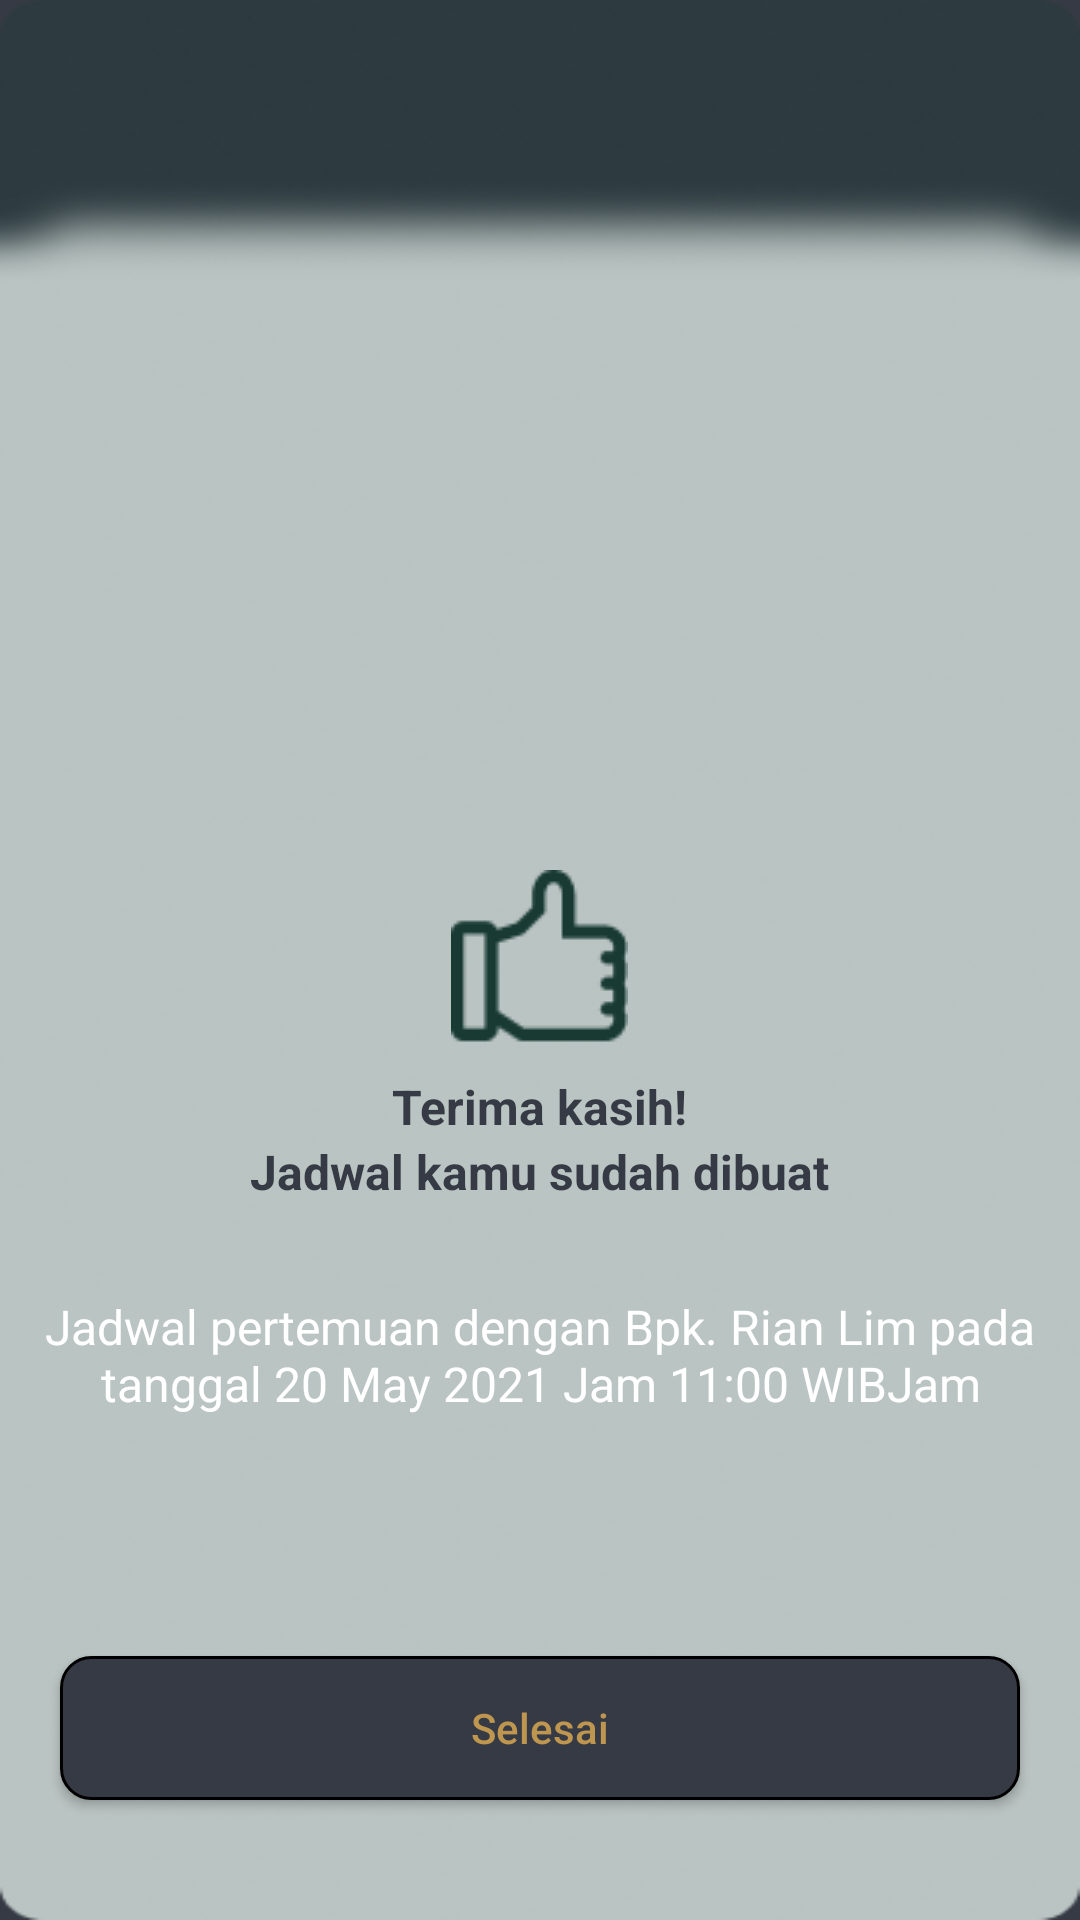

Icons on this 1080w x 1920h Android screen, each with the point to tap as [x,y]:
hand: [539,956]
